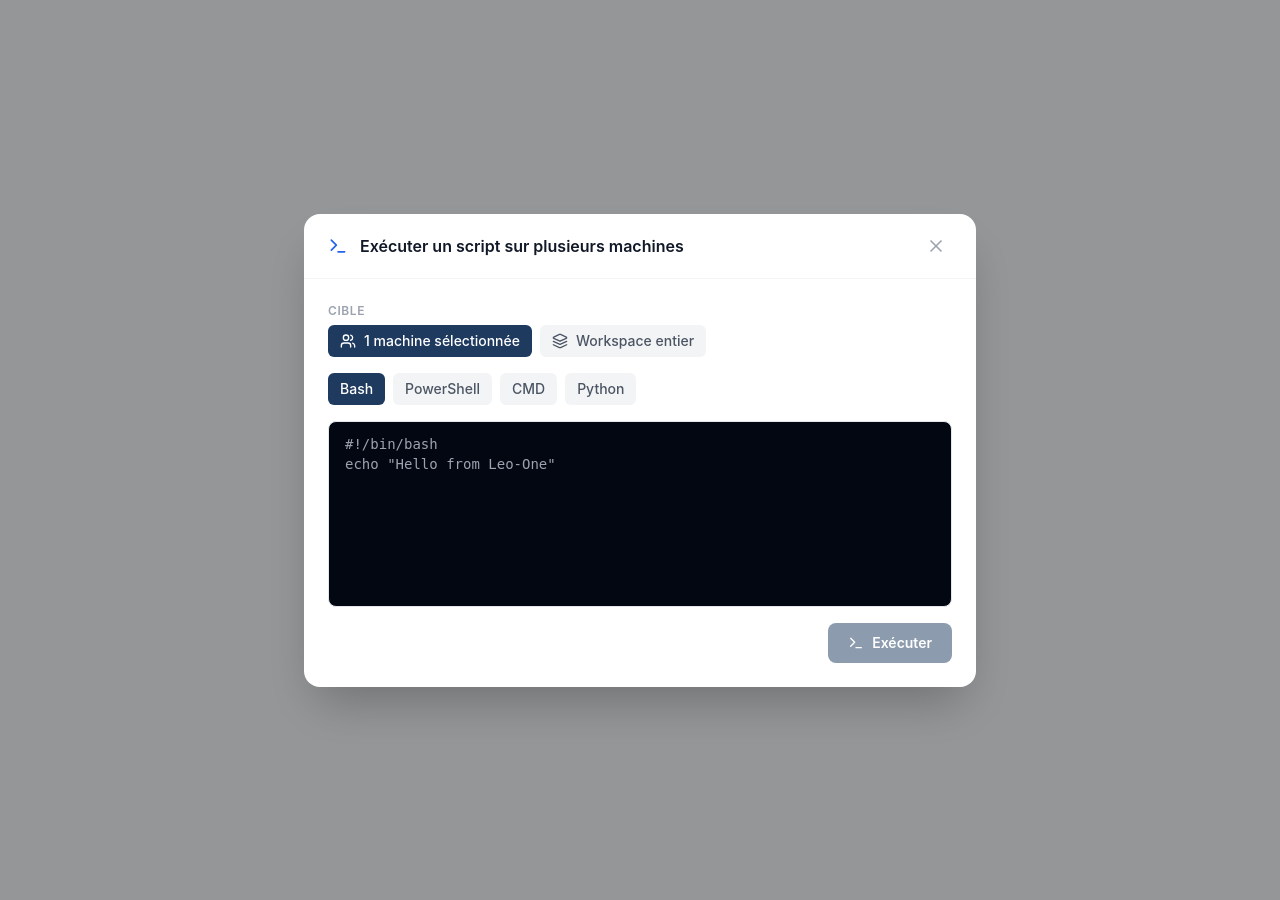
Test: BulkCommandModal — erreur › affiche l'erreur de l'API dans le résumé plutôt que de planter
In the text box with placeholder "#!/bin/bash echo \"Hello from Leo-One\"": x=640, y=514 [328,420,952,606], type "echo hi"
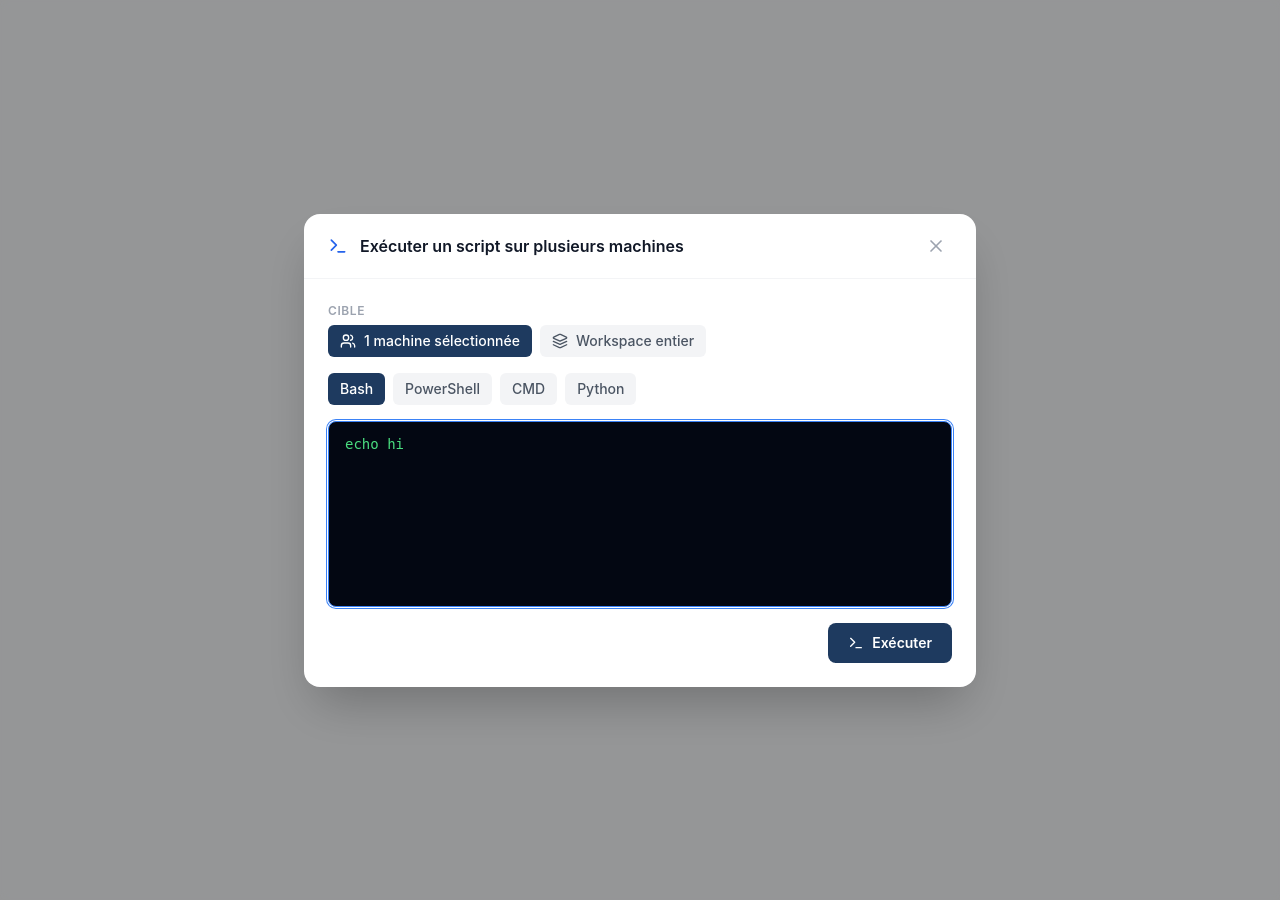
Click the button "Exécuter": x=890, y=642 [828,622,952,662]
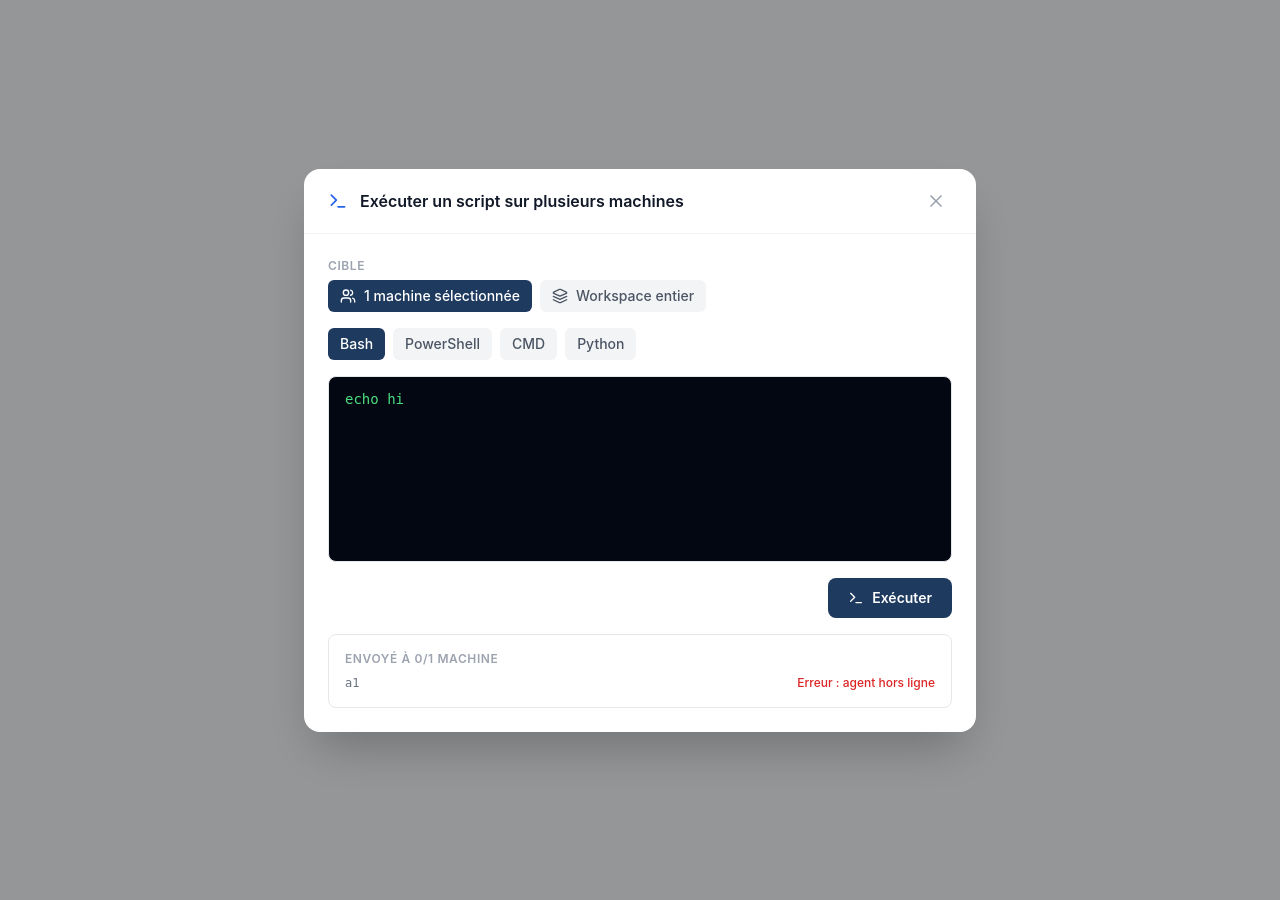
Expected: the text "Erreur : agent hors ligne" is shown, [797,674,935,690]
